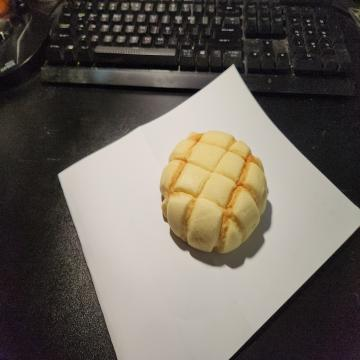melon_bread: (161, 132, 270, 253)
